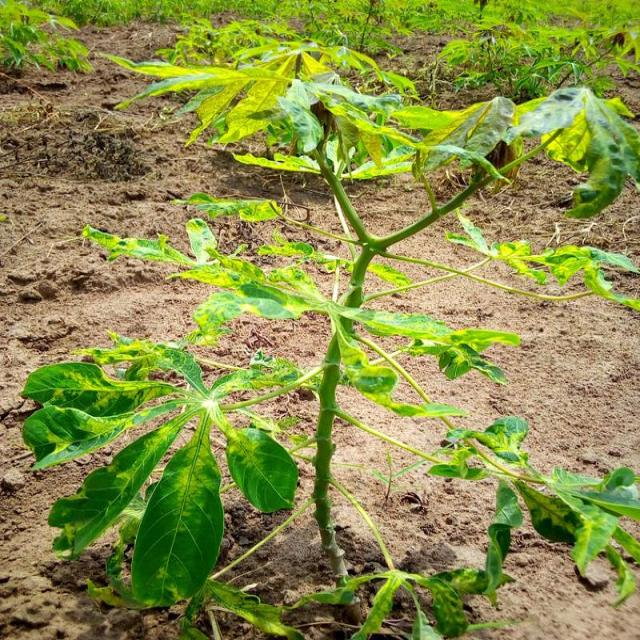cassava leaf: (18, 34, 638, 636), (129, 432, 224, 608), (225, 426, 298, 513)
